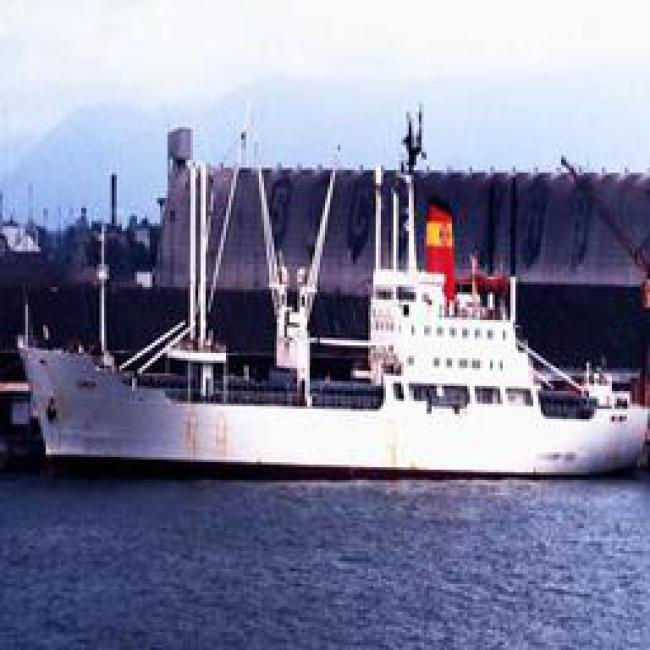Ship: (9, 330, 647, 481)
